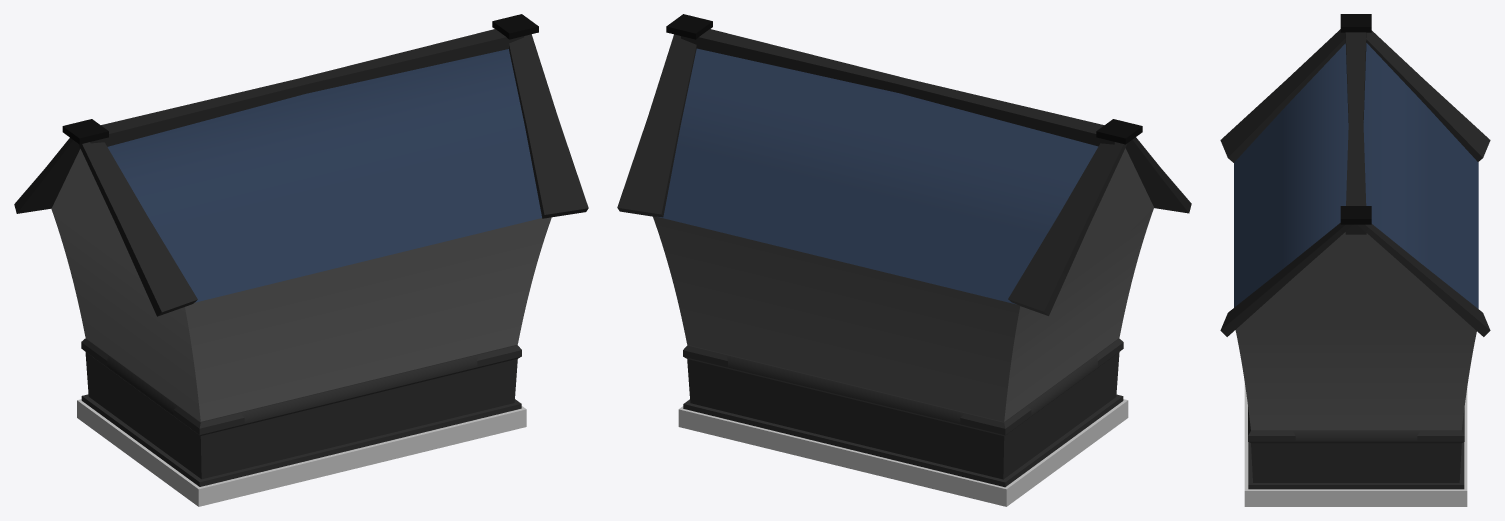
The model's file is House2_Stage_Final.FBX.
3 views of the same model, side by side, from view 1: azimuth 30°, elevation 25°; view 2: azimuth 150°, elevation 25°; view 3: azimuth 270°, elevation 25° (orthographic). The views are drawn at different scales.
Parts seen in each view (by area): view 1: House_Stage_5; view 2: House_Stage_5; view 3: House_Stage_5.
Part boxes in pixels (<box>): House_Stage_5: <box>14,14,588,506</box>; House_Stage_5: <box>617,14,1191,506</box>; House_Stage_5: <box>1220,14,1490,506</box>.
Size of the model in its own units: 156 by 112 by 86.75.
